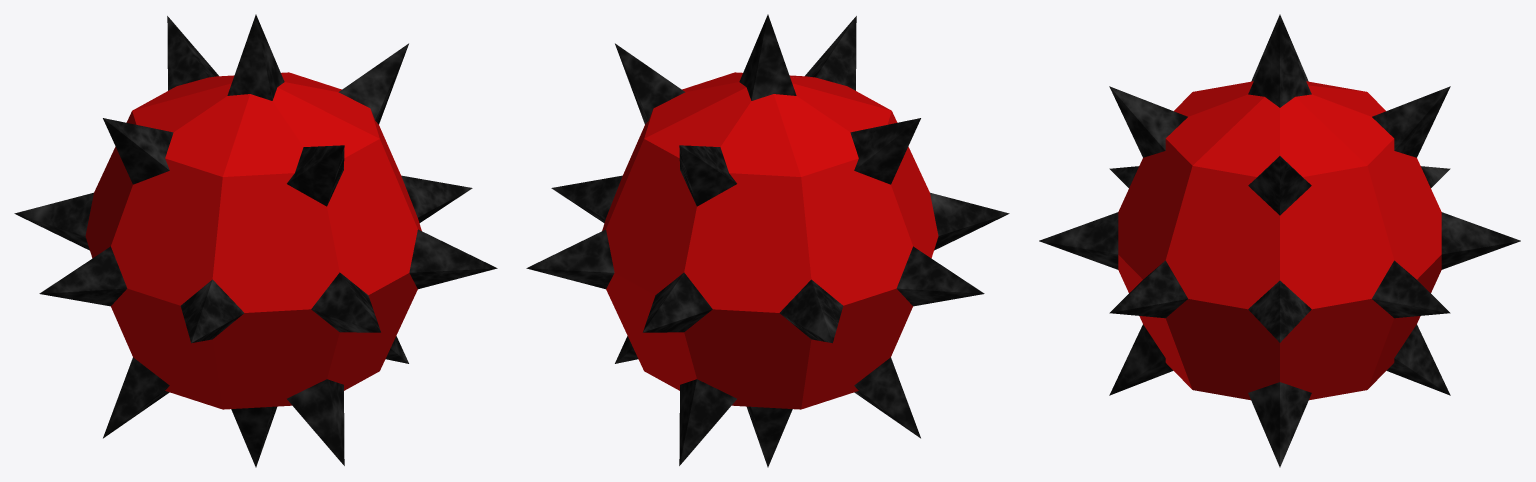
The model's file is SpaceMine.fbx.
3 views of the same model, side by side, from view 1: azimuth 30°, elevation 25°; view 2: azimuth 150°, elevation 25°; view 3: azimuth 270°, elevation 25° (orthographic). The views are drawn at different scales.
Visible parts, largest first — view 1: SpaceMine; view 2: SpaceMine; view 3: SpaceMine.
Boxes of the visible parts, <box> form: SpaceMine: <box>14,14,497,467</box>; SpaceMine: <box>526,14,1009,467</box>; SpaceMine: <box>1039,14,1520,467</box>.
Bounding box in the file's own units: 145 × 145 × 145.
